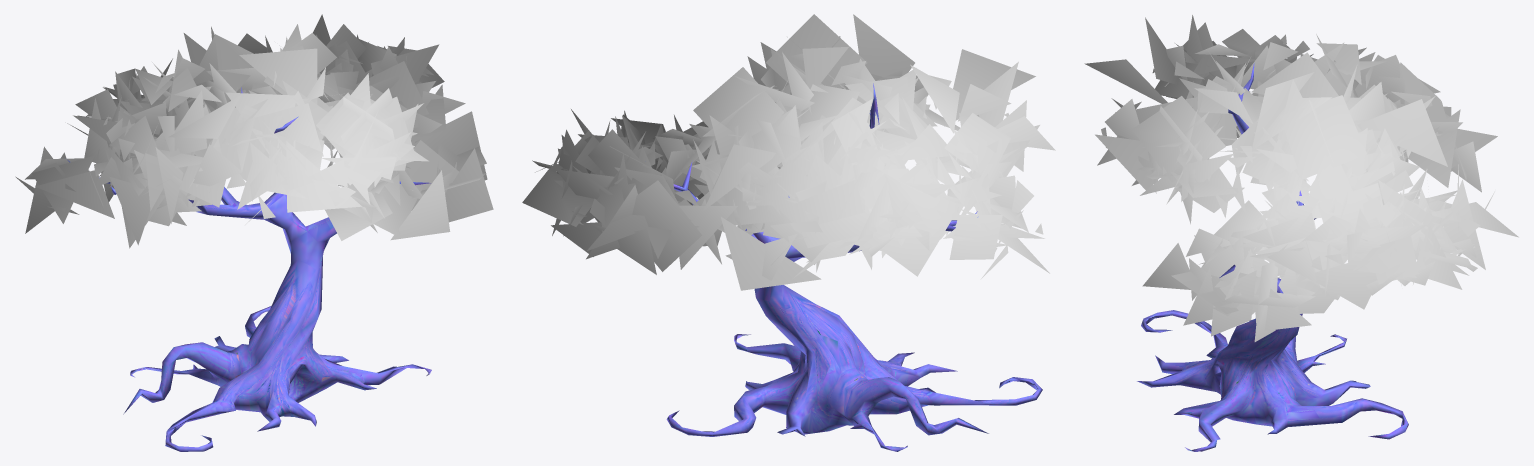
File: m_TreeBig_LOD2.fbx
3 renders of one model, left to right at view 1: azimuth 30°, elevation 25°; view 2: azimuth 150°, elevation 25°; view 3: azimuth 270°, elevation 25°, orthographic. The views are drawn at different scales.
Parts seen in each view (by area): view 1: TreeBig_LOD2; view 2: TreeBig_LOD2; view 3: TreeBig_LOD2.
Part boxes in pixels (x1,y1,x2,y2): TreeBig_LOD2: [15, 14, 493, 451]; TreeBig_LOD2: [522, 14, 1055, 451]; TreeBig_LOD2: [1084, 15, 1518, 451].
Bounding box in the file's own units: 11694 × 8378 × 9477.
